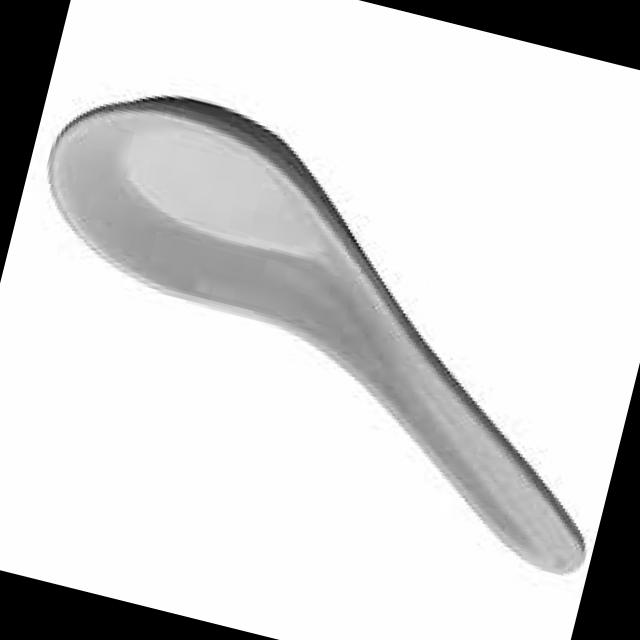spoon: (0, 6, 640, 600)
